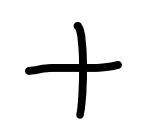plus: (25, 22, 122, 118)
